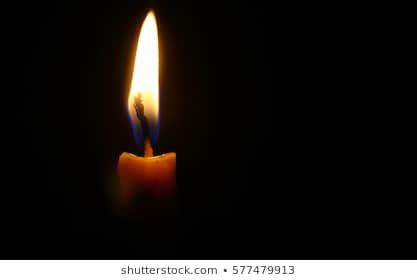Fire: (126, 10, 161, 143)
